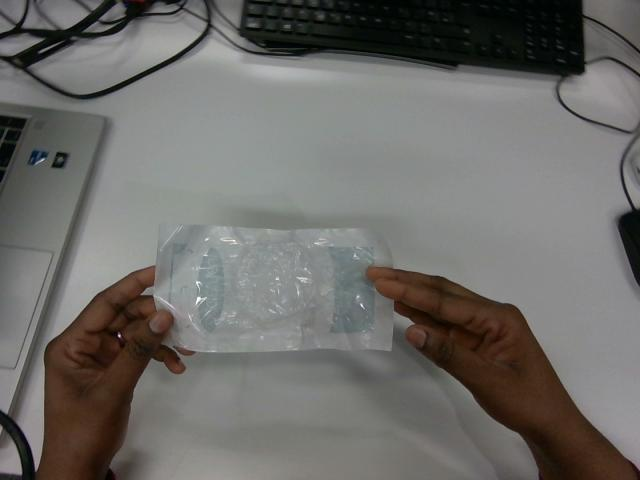gallipot: (154, 224, 392, 351)
